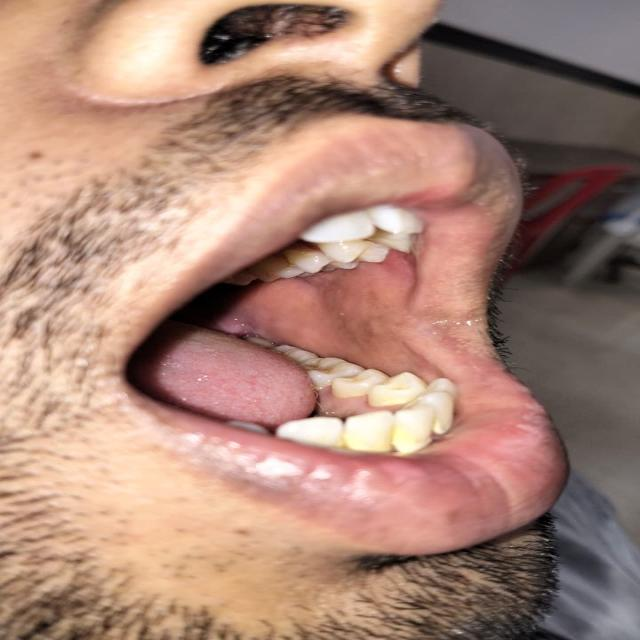processing_area: (161, 271, 476, 410)
